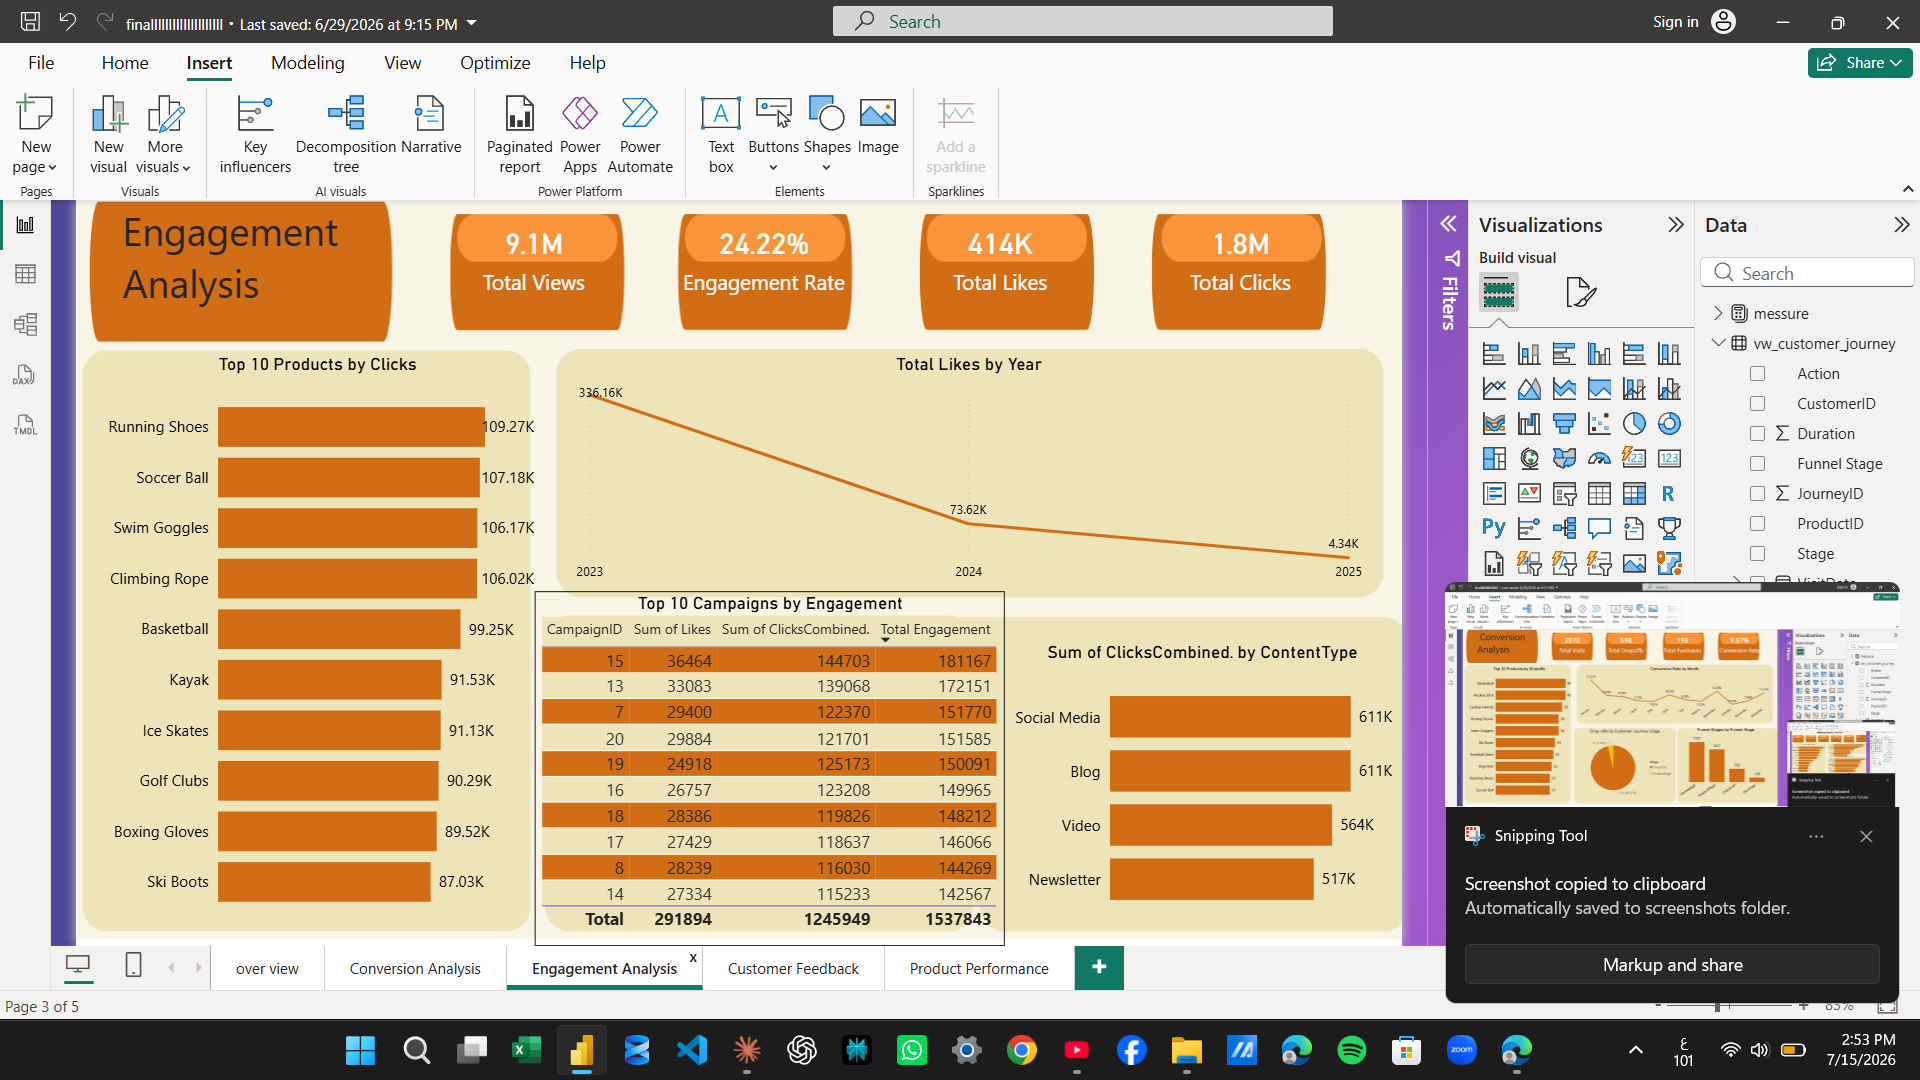

Layout of this report page (visuals, bound fields, positions):
{"tool":"powerbi","page":{"name":"Engagement Analysis","canvas":[1280,720],"ordinal":2},"visuals":[{"type":"card","fields":{"Values":["messure.Total Views"]},"box":[357.7,0,167.6,108.5],"z":0},{"type":"card","fields":{"Values":["messure.Total Likes"]},"box":[808.5,0,167.6,108.5],"z":1000},{"type":"card","fields":{"Values":["messure.Total Clicks"]},"box":[1046.5,0,156.3,108.5],"z":2000},{"type":"card","fields":{"Values":["messure.Engagement Rate"]},"box":[571.8,0,184.5,108.5],"z":3000},{"type":"barChart","fields":{"Category":["vw_engagement_data.ContentType"],"Y":["Sum(vw_engagement_data.ClicksCombined.)"]},"box":[895.8,425.4,384.5,277.5],"z":4000},{"type":"lineChart","fields":{"Category":["vw_engagement_data.EngagementDate.Variation.Date Hierarchy.Year"],"Y":["messure.Total Likes"]},"box":[477.5,148.2,768.4,229.2],"z":5000},{"type":"barChart","title":"Top 10 Products by Clicks","fields":{"Y":["messure.Total Clicks"],"Category":["vw_products.ProductName"]},"box":[19.2,148.2,428.1,554.4],"z":6000},{"type":"tableEx","title":"Top 10 Campaigns by Engagement","fields":{"Values":["vw_engagement_data.CampaignID","Sum(vw_engagement_data.Likes)","Sum(vw_engagement_data.ClicksCombined.)","messure.Total Engagement"]},"box":[442.3,377.5,453.5,342.3],"z":7000},{"type":"textbox","box":[0,0,307,129.6],"z":8000}]}

Visuals, with their boxes on the page's 1280x720 design canvas (x1, y1, x2, y2). These are canvas units, not pixel positions in the 1920x1080 screenshot, which may show the page scaled, cropped or inside an application window:
card - messure.Total Views: bbox=[358, 0, 525, 108]
card - messure.Total Likes: bbox=[808, 0, 976, 108]
card - messure.Total Clicks: bbox=[1046, 0, 1203, 108]
card - messure.Engagement Rate: bbox=[572, 0, 756, 108]
barChart - vw_engagement_data.ContentType x Sum(vw_engagement_data.ClicksCombined.): bbox=[896, 425, 1280, 703]
lineChart - vw_engagement_data.EngagementDate.Variation.Date Hierarchy.Year x messure.Total Likes: bbox=[478, 148, 1246, 377]
"Top 10 Products by Clicks" barChart: bbox=[19, 148, 447, 703]
"Top 10 Campaigns by Engagement" tableEx: bbox=[442, 378, 896, 720]
textbox: bbox=[0, 0, 307, 130]
